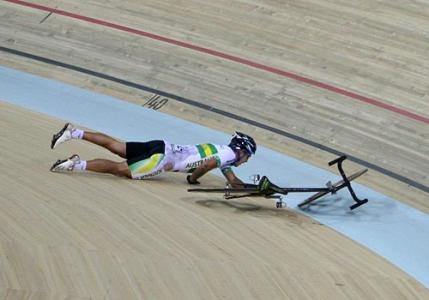falling: (44, 110, 279, 193)
